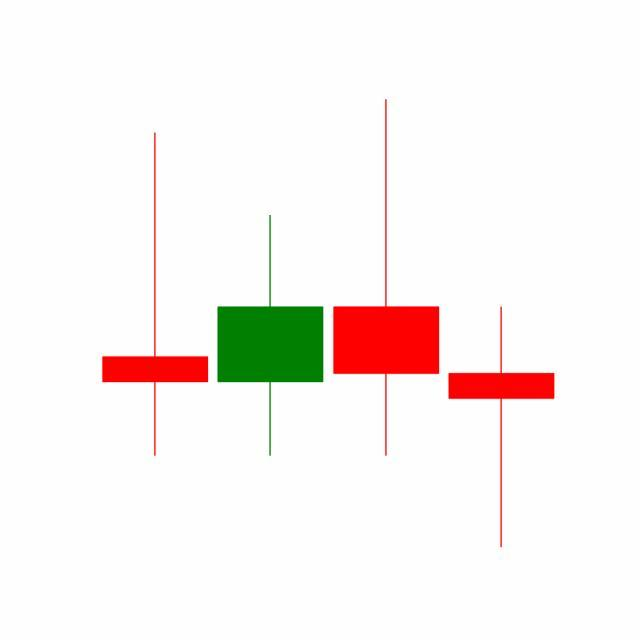Spinning Top: (444, 305, 560, 552)
